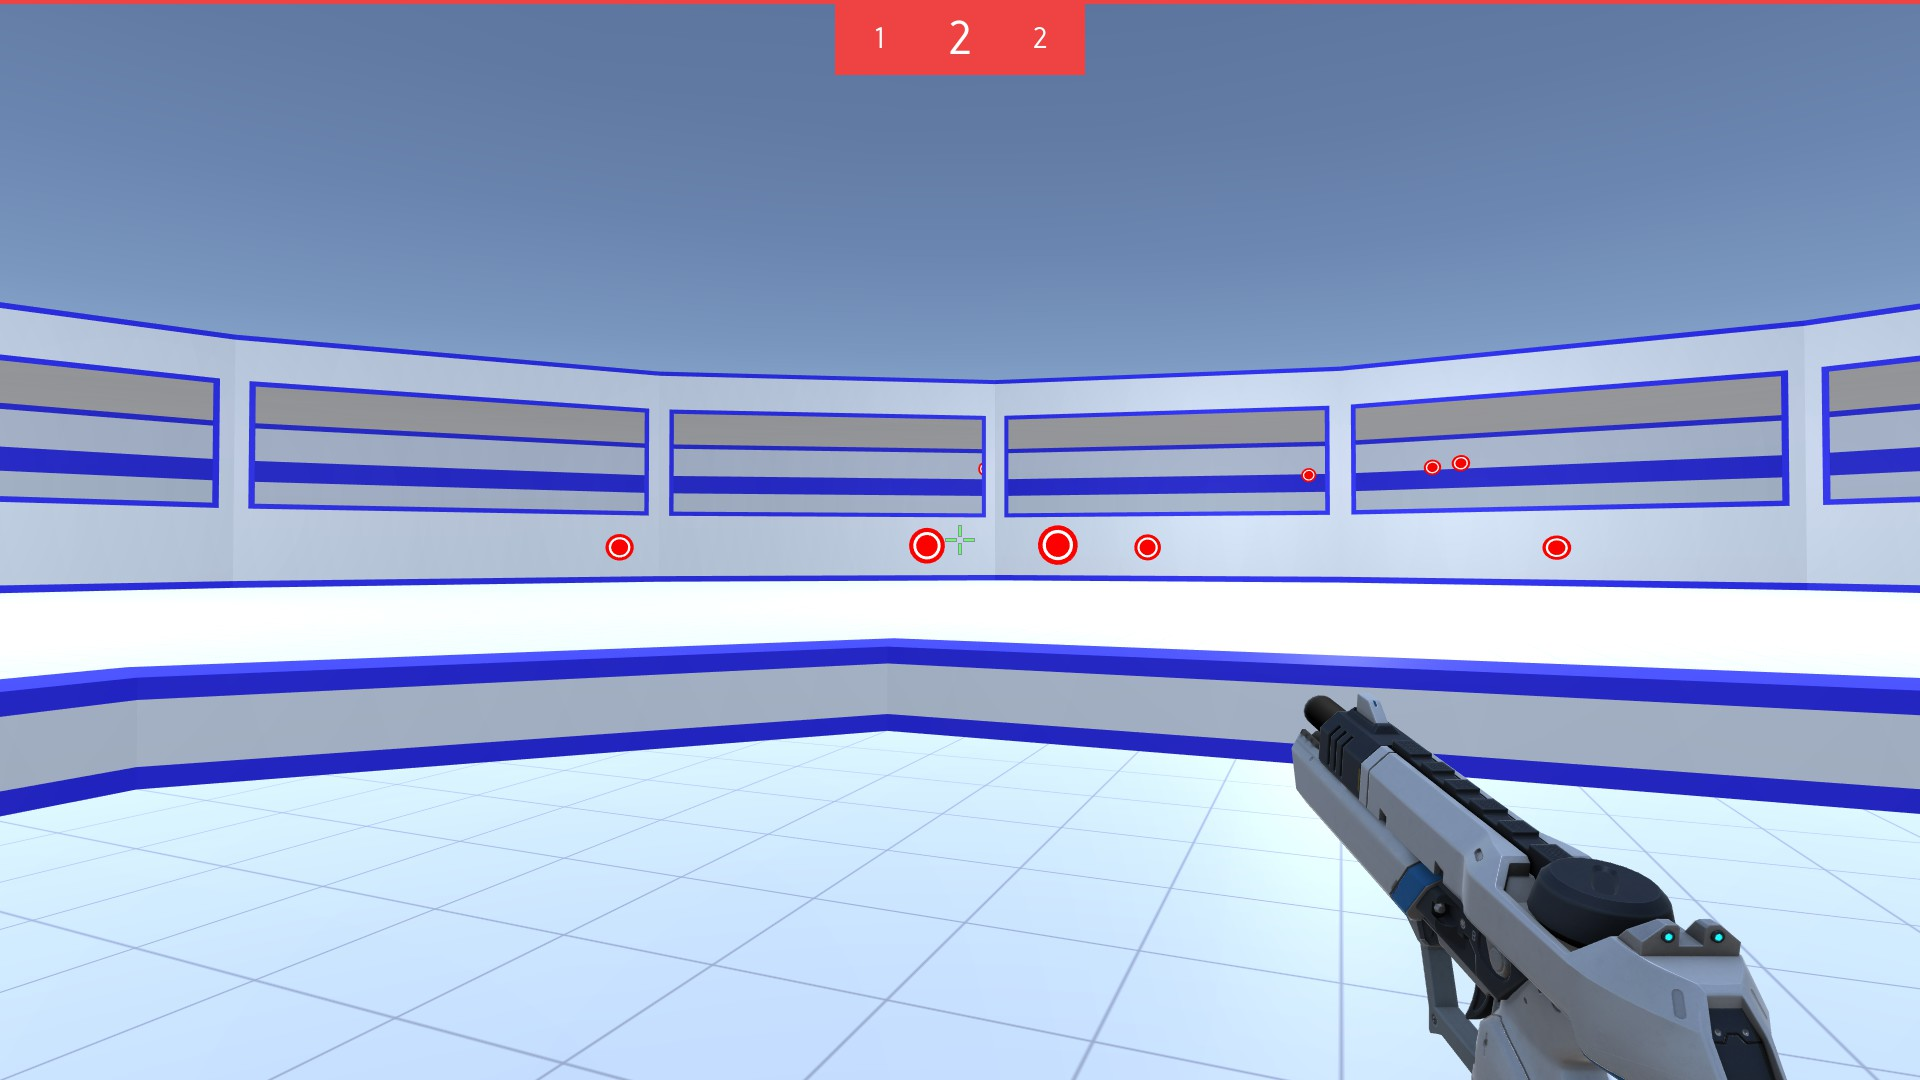target: (1034, 524, 1081, 564), (905, 526, 953, 564), (603, 531, 638, 559), (1540, 534, 1575, 562), (1133, 531, 1162, 563), (1423, 458, 1443, 477), (1451, 454, 1472, 472), (1300, 468, 1317, 484), (977, 459, 992, 476)
